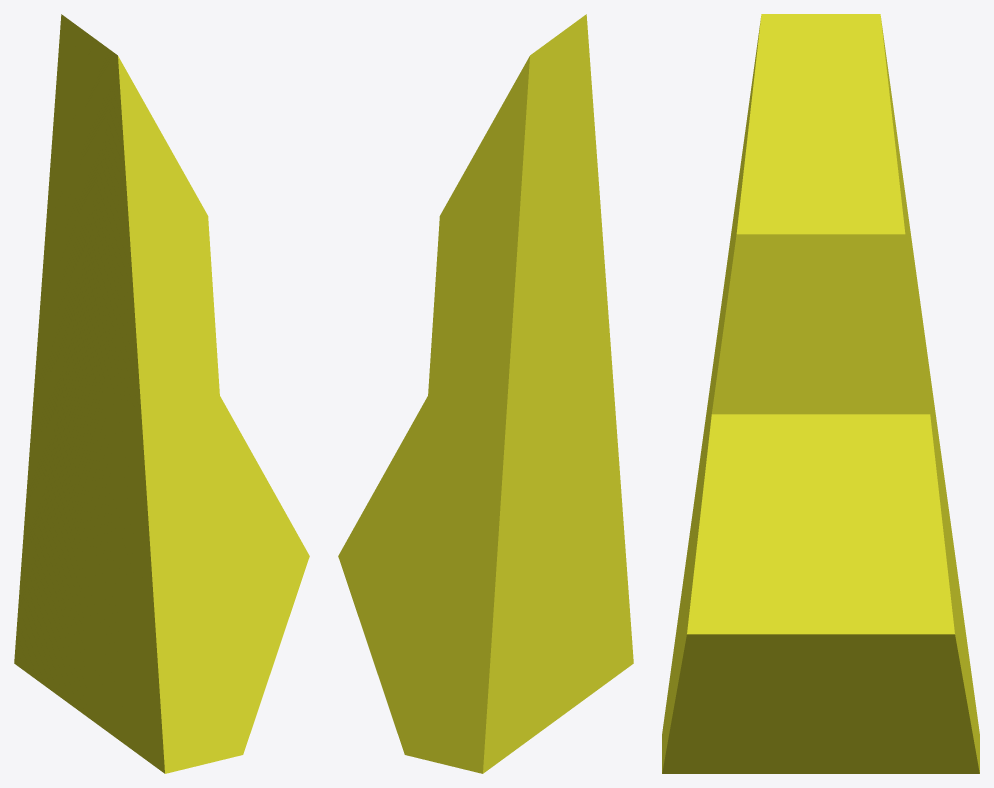
Rendered from x_skala_crash_78_prohod16_2.fbx.
The picture shows the model from 3 angles, left to right: view 1: azimuth 30°, elevation 25°; view 2: azimuth 150°, elevation 25°; view 3: azimuth 270°, elevation 25°; orthographic projection. The views are drawn at different scales.
Parts seen in each view (by area): view 1: x_skala_crash_78_prohod16_2_1; view 2: x_skala_crash_78_prohod16_2_1; view 3: x_skala_crash_78_prohod16_2_1.
Part boxes in pixels (box(x1,y1,x2,y2)): x_skala_crash_78_prohod16_2_1: box(14, 14, 309, 773); x_skala_crash_78_prohod16_2_1: box(338, 14, 633, 773); x_skala_crash_78_prohod16_2_1: box(662, 14, 979, 773).
Bounding box in the file's own units: 0.5987 × 2.5 × 1.
